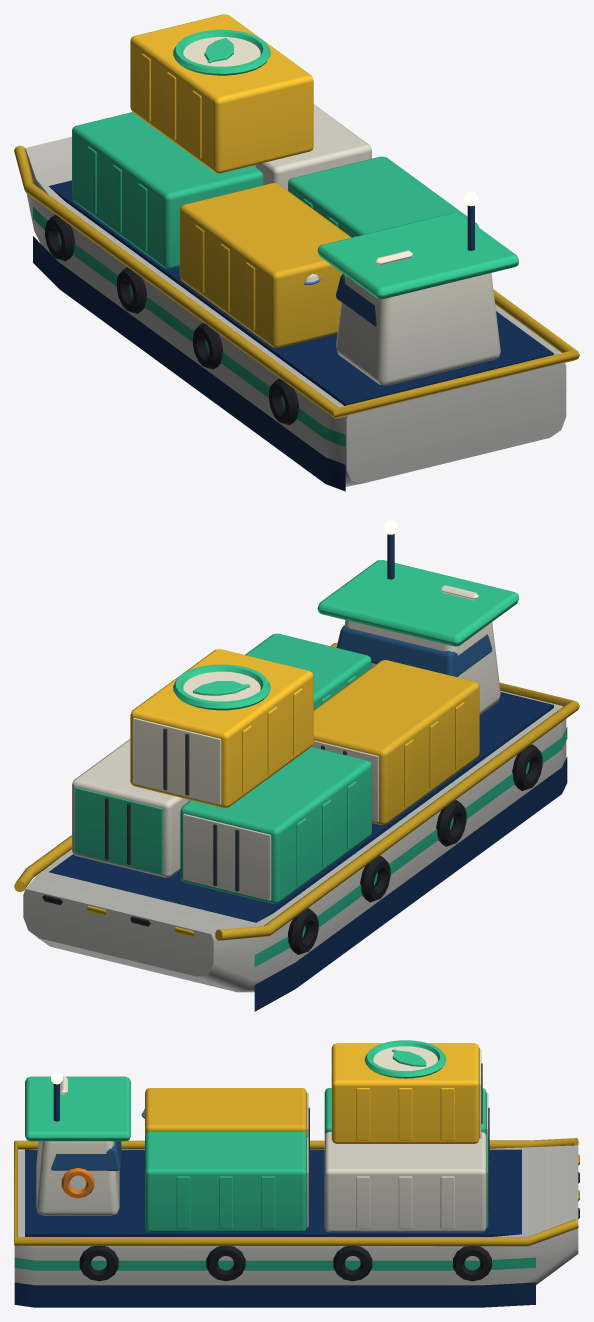
Rendered from barge.glb.
The picture shows the model from 3 angles, top to bottom: view 1: azimuth 30°, elevation 25°; view 2: azimuth 150°, elevation 25°; view 3: azimuth 270°, elevation 25°; orthographic projection. The views are drawn at different scales.
Parts seen in each view (by area): view 1: barge Sunflower, barge Warm white, barge Relief mint, barge Kestrel navy, barge Tyre black, barge Tinted glass; view 2: barge Warm white, barge Relief mint, barge Sunflower, barge Kestrel navy, barge Tyre black, barge Tinted glass, barge Gunmetal; view 3: barge Warm white, barge Relief mint, barge Sunflower, barge Kestrel navy, barge Tyre black, barge Tinted glass, barge Signal orange, barge Gunmetal.
Part boxes in pixels (x1=…): barge Sunflower: x1=14, y1=14, x2=579, y2=418; barge Warm white: x1=25, y1=37, x2=566, y2=486; barge Relief mint: x1=33, y1=29, x2=518, y2=446; barge Kestrel navy: x1=33, y1=180, x2=553, y2=491; barge Tyre black: x1=45, y1=214, x2=298, y2=425; barge Tinted glass: x1=336, y1=274, x2=376, y2=326; barge Warm white: x1=23, y1=585, x2=566, y2=992; barge Relief mint: x1=74, y1=560, x2=567, y2=966; barge Sunflower: x1=14, y1=642, x2=579, y2=940; barge Kestrel navy: x1=48, y1=534, x2=567, y2=1011; barge Tyre black: x1=288, y1=744, x2=542, y2=954; barge Tinted glass: x1=336, y1=625, x2=492, y2=676; barge Gunmetal: x1=105, y1=728, x2=346, y2=891; barge Warm white: x1=14, y1=1046, x2=578, y2=1285; barge Relief mint: x1=14, y1=1040, x2=535, y2=1270; barge Sunflower: x1=14, y1=1043, x2=578, y2=1246; barge Kestrel navy: x1=14, y1=1084, x2=535, y2=1307; barge Tyre black: x1=79, y1=1245, x2=491, y2=1281; barge Tinted glass: x1=51, y1=1141, x2=121, y2=1170; barge Signal orange: x1=61, y1=1168, x2=94, y2=1198; barge Gunmetal: x1=308, y1=1063, x2=489, y2=1212.
Size of the model in its own units: 3.47 by 3.29 by 8.03.
16 materials, 13 textured.
